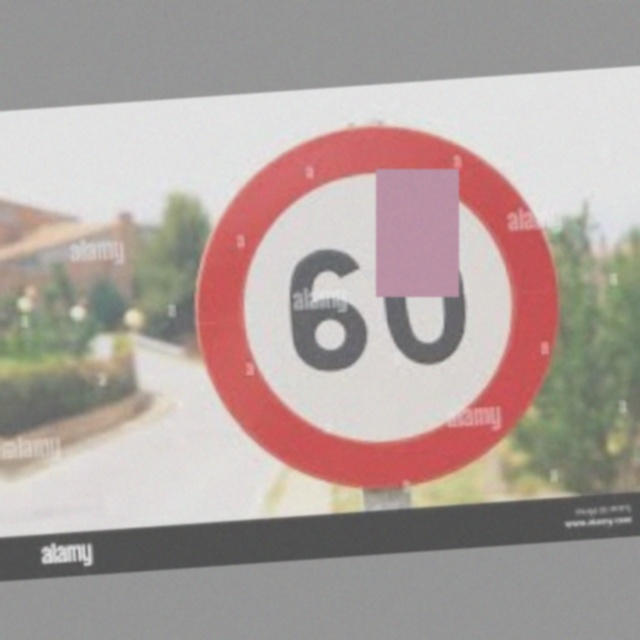Speed_Limit_60: (189, 115, 566, 486)
